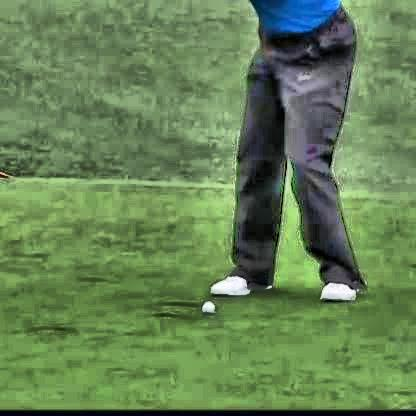golfball: (199, 299, 215, 312)
